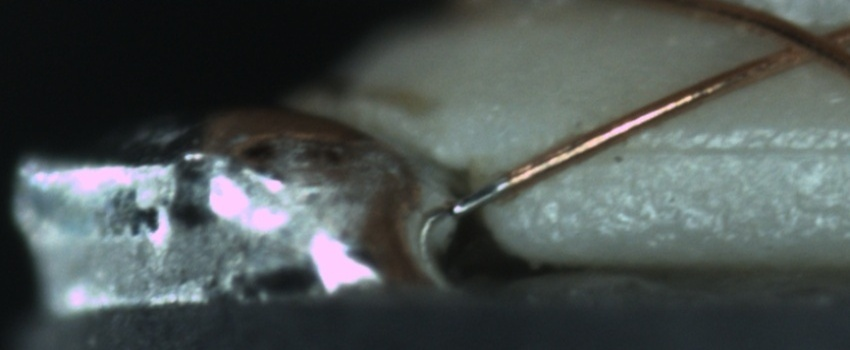CL: (760, 15, 844, 72)
DL: (609, 116, 847, 182)
TS: (449, 177, 506, 217)
